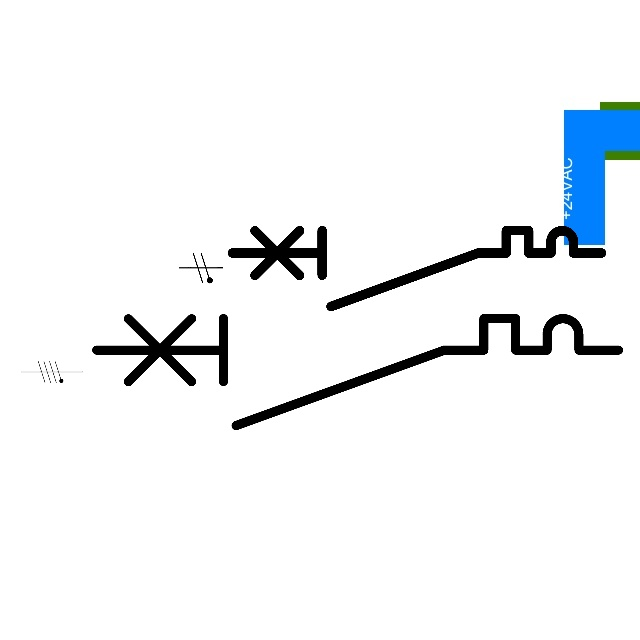interruptor_termomagnetico: (83, 305, 632, 439), (222, 221, 610, 316)
